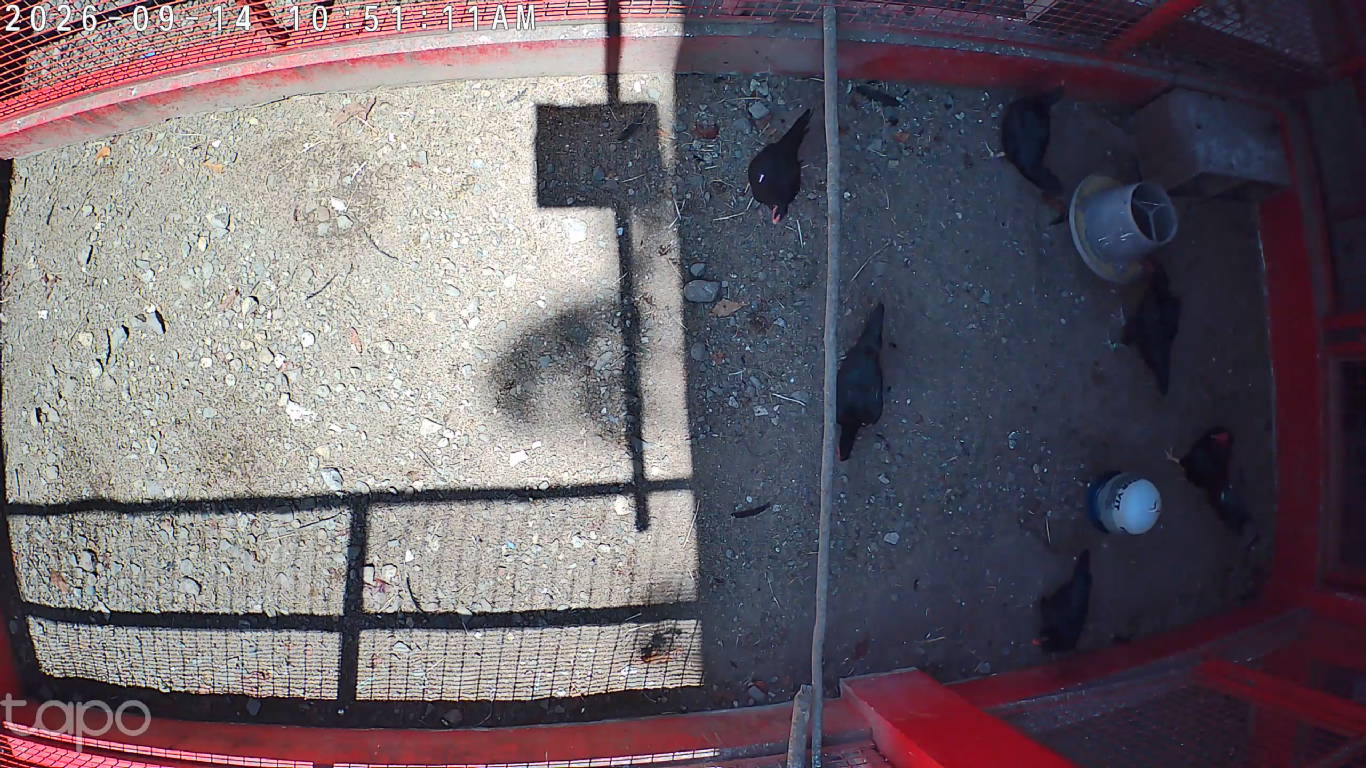Chicken: (1103, 254, 1187, 394), (980, 80, 1071, 209), (831, 299, 895, 470), (744, 105, 816, 232), (1030, 551, 1096, 654)
Rooster: (1158, 420, 1256, 546)
